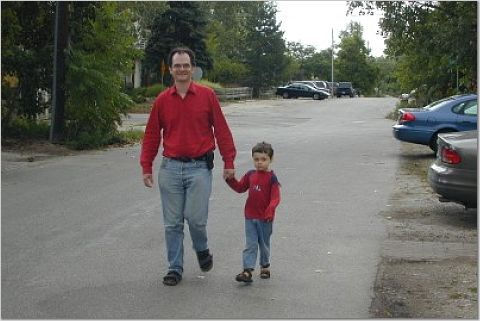person: (141, 47, 238, 288), (225, 141, 282, 285)
